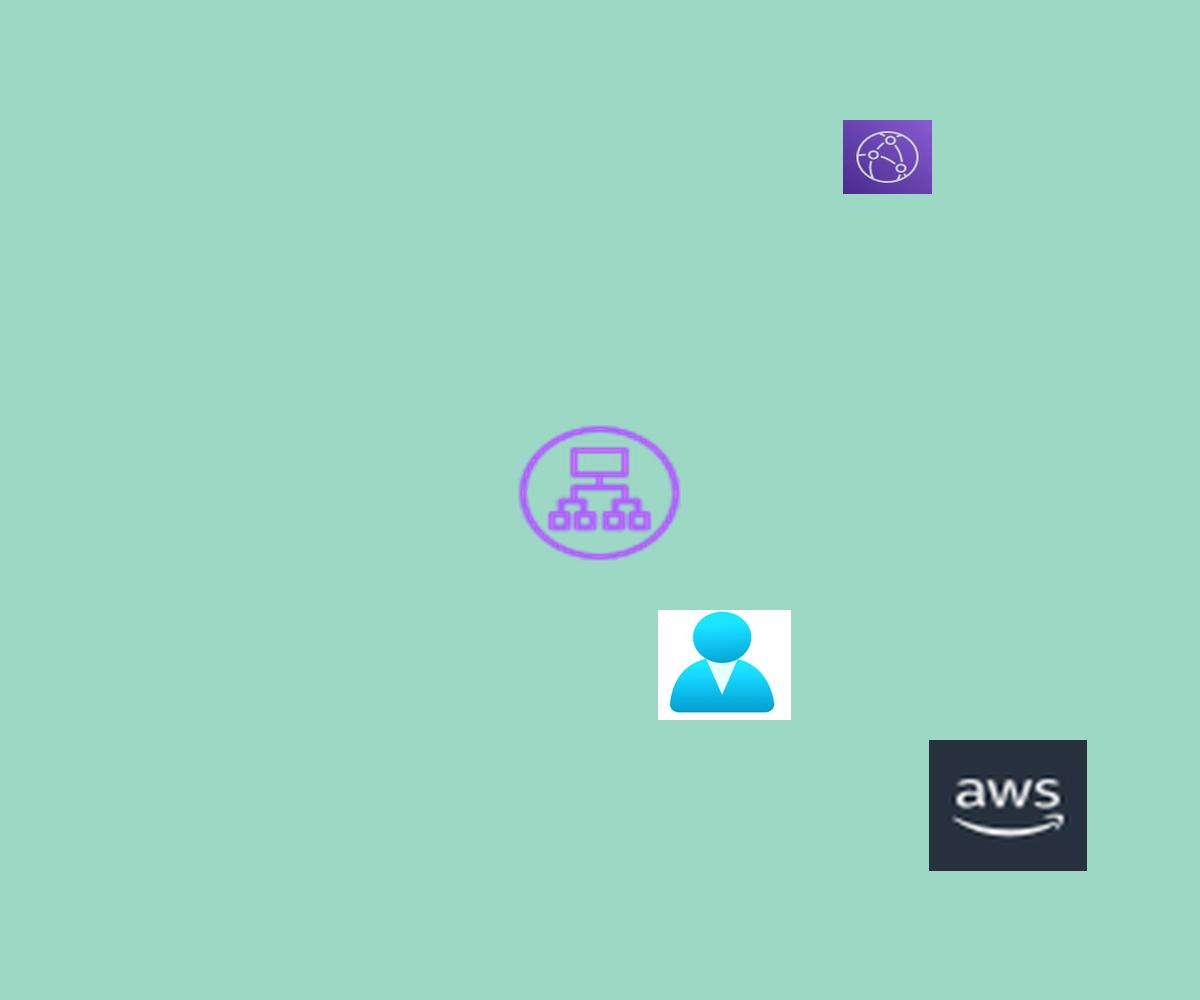AWS-Cloud-logo: (929, 740, 1087, 871)
AWS-CloudFront: (843, 120, 932, 194)
AWS-Res_Elastic-Load-Balancing_Application-Load-Balancer: (512, 420, 687, 566)
Azure_users: (658, 610, 791, 720)
